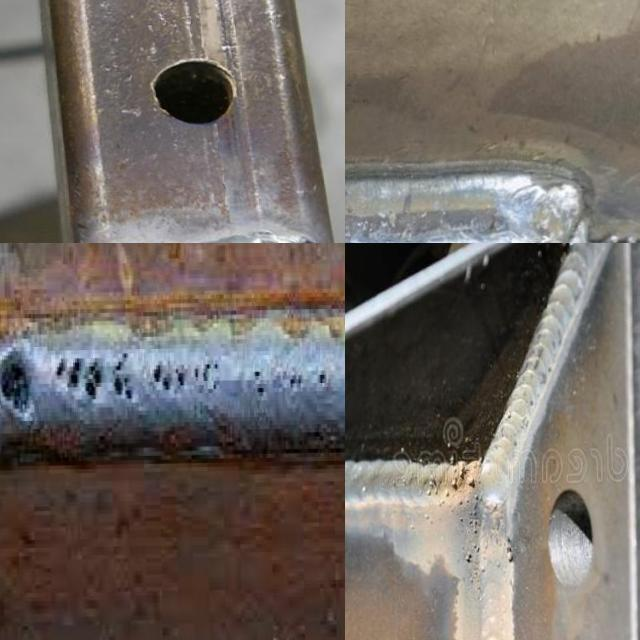defect: (416, 463, 483, 535), (49, 350, 136, 405), (0, 349, 34, 422), (150, 351, 186, 400), (192, 349, 222, 403), (502, 529, 516, 572), (250, 365, 267, 399), (315, 358, 332, 391), (284, 370, 304, 396), (462, 540, 482, 566)
